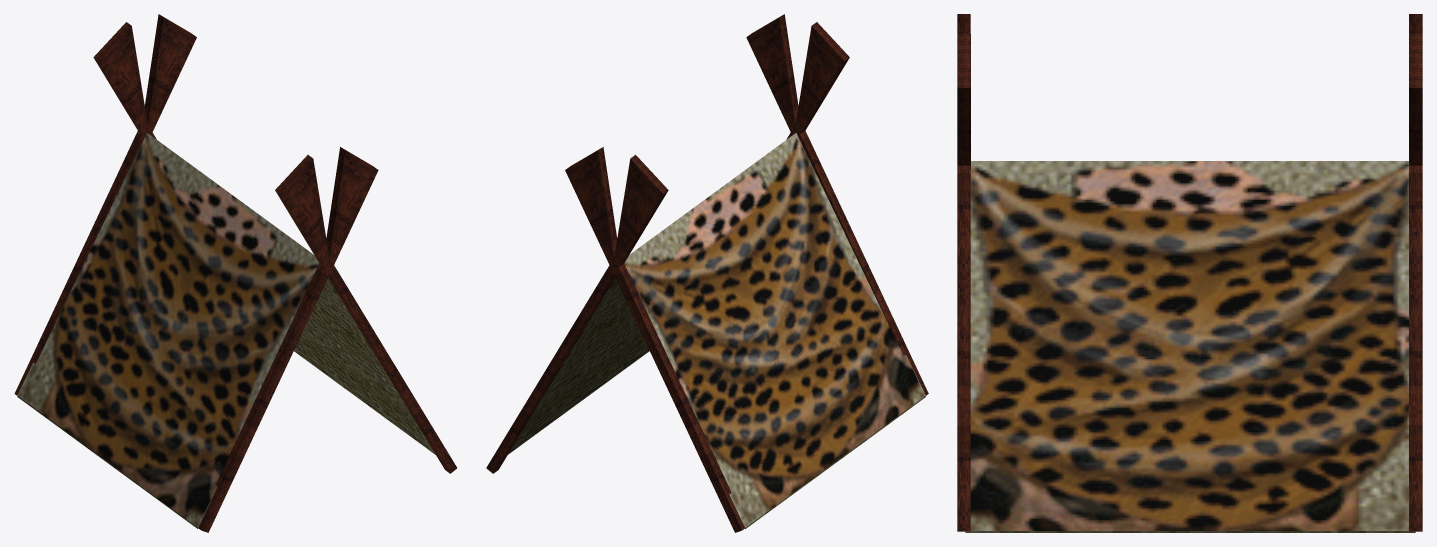
Rendered from Bandit4.fbx.
3 renders of one model, left to right at view 1: azimuth 30°, elevation 25°; view 2: azimuth 150°, elevation 25°; view 3: azimuth 270°, elevation 25°, orthographic. The views are drawn at different scales.
Parts seen in each view (by area): view 1: BANDIT4; view 2: BANDIT4; view 3: BANDIT4.
Part boxes in pixels (left/top/right/bottom): BANDIT4: left=14, top=14, right=456, bottom=532; BANDIT4: left=486, top=14, right=928, bottom=532; BANDIT4: left=957, top=14, right=1422, bottom=532.
Size of the model in its own units: 11.29 by 14.69 by 14.26.
